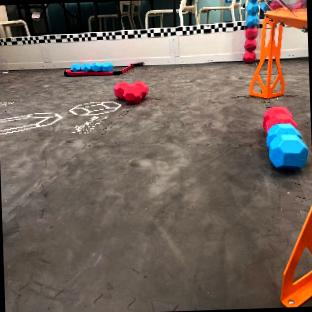V5_BLUE: (264, 106, 307, 169), (71, 62, 113, 71)
V5_RED: (264, 106, 295, 132), (115, 82, 147, 104)
